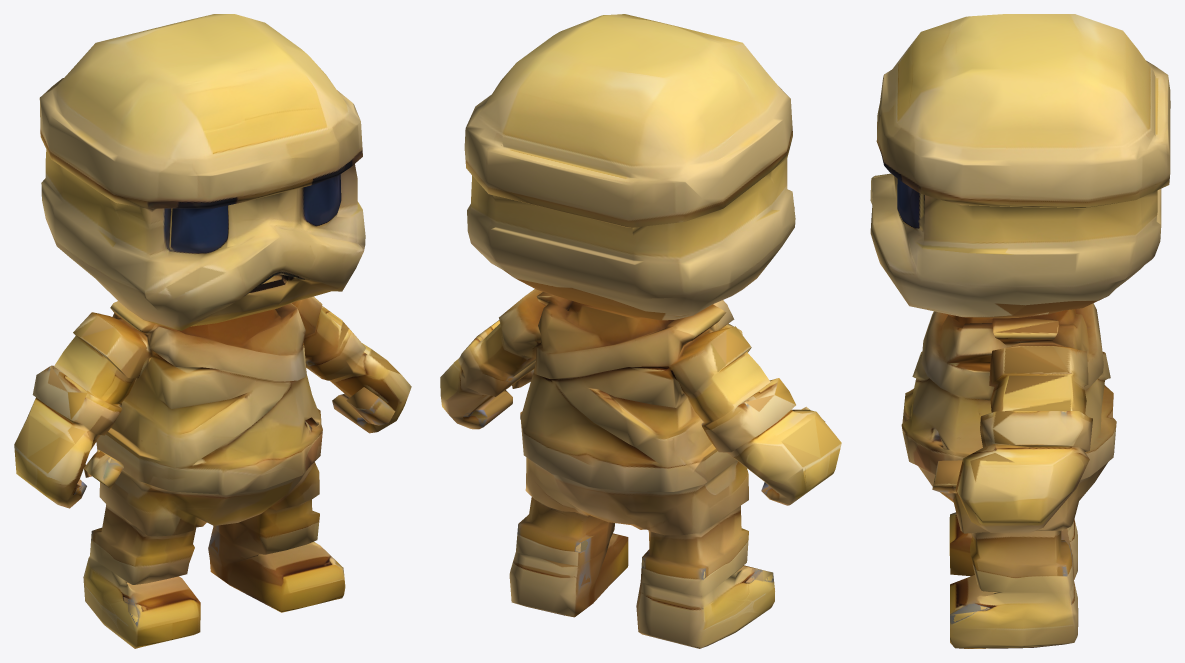
The model's file is tripo_mummy.glb.
3 views of the same model, side by side, from view 1: azimuth 30°, elevation 25°; view 2: azimuth 150°, elevation 25°; view 3: azimuth 270°, elevation 25° (orthographic).
Parts seen in each view (by area): view 1: tripo_node_393da4dd-9841-4341-9784-3546e8bf1f63; view 2: tripo_node_393da4dd-9841-4341-9784-3546e8bf1f63; view 3: tripo_node_393da4dd-9841-4341-9784-3546e8bf1f63.
Boxes of the visible parts, left/top/right/bottom form: tripo_node_393da4dd-9841-4341-9784-3546e8bf1f63: left=14, top=14, right=411, bottom=648; tripo_node_393da4dd-9841-4341-9784-3546e8bf1f63: left=440, top=14, right=841, bottom=648; tripo_node_393da4dd-9841-4341-9784-3546e8bf1f63: left=870, top=14, right=1170, bottom=648.
Bounding box in the file's own units: 0.6841 × 1 × 0.4863.
Materials: 1 (1 with a texture image).
